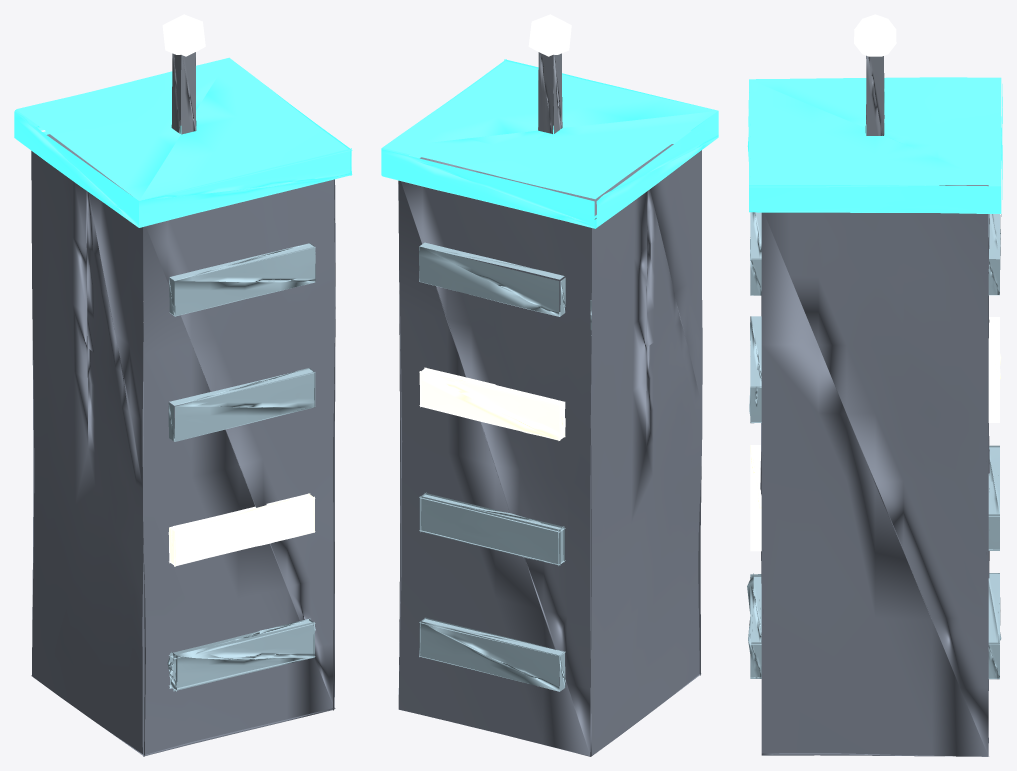
File: tower.glb
3 views of the same model, side by side, from view 1: azimuth 30°, elevation 25°; view 2: azimuth 150°, elevation 25°; view 3: azimuth 270°, elevation 25° (orthographic). The views are drawn at different scales.
Parts seen in each view (by area): view 1: MetroTower; view 2: MetroTower; view 3: MetroTower.
Part boxes in pixels (bbox=[...]): MetroTower: bbox=[14, 14, 352, 756]; MetroTower: bbox=[381, 14, 718, 756]; MetroTower: bbox=[747, 14, 1002, 756].
Size of the model in its own units: 1.01 by 3.04 by 1.01.
